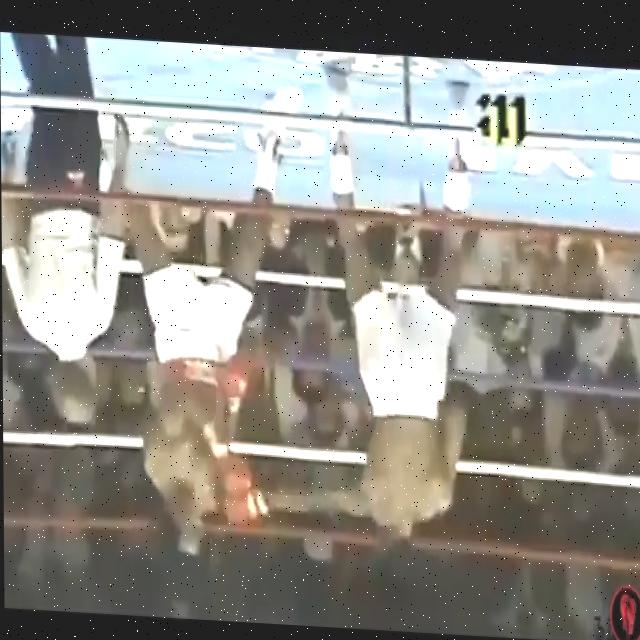Jab: (207, 356, 404, 548)
